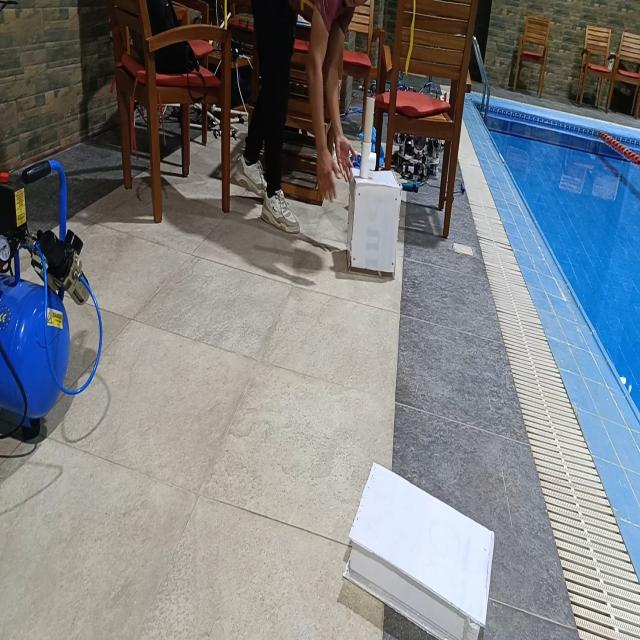Cube: (345, 167, 402, 276)
Cuboid: (343, 459, 495, 638)
